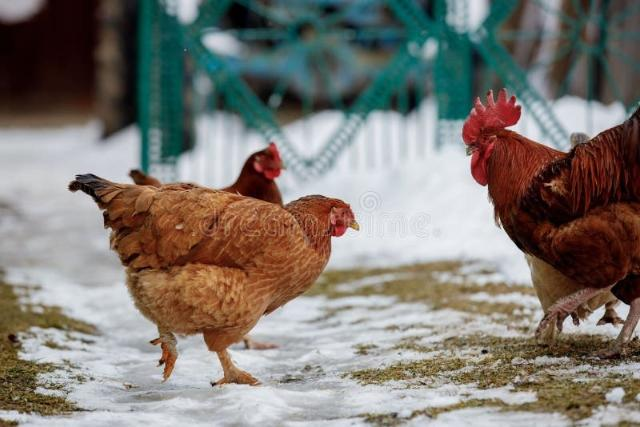Chicken: (67, 173, 362, 388), (461, 88, 640, 346), (127, 142, 285, 207)
